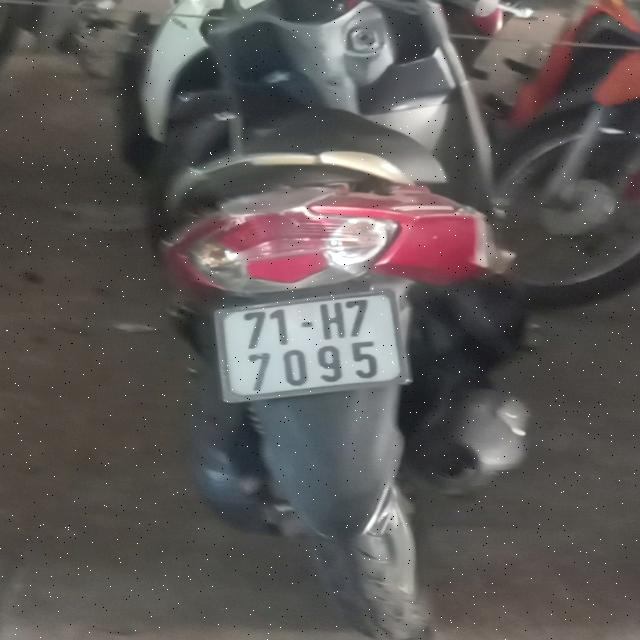0: (284, 348, 308, 386)
1: (268, 309, 289, 344)
5: (351, 340, 380, 380)
7: (346, 298, 372, 338), (247, 353, 272, 391), (243, 312, 266, 349)
9: (316, 346, 344, 382)
H: (320, 301, 346, 340)
